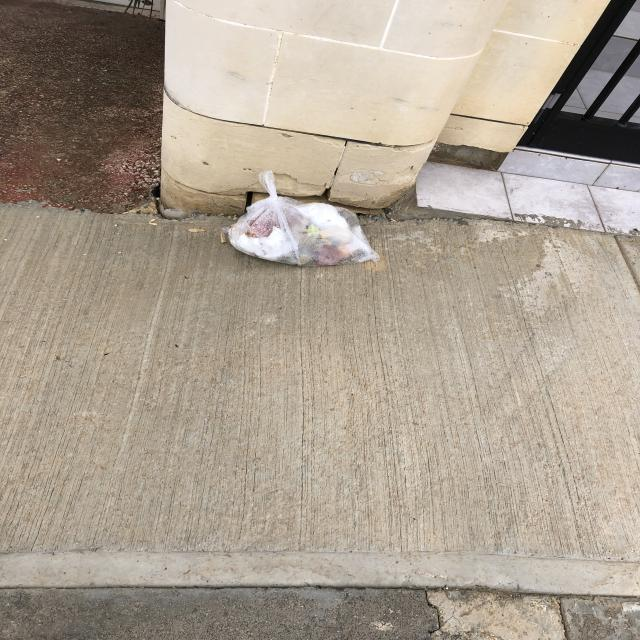Organic Waste -White Bag-: (224, 171, 390, 276)
